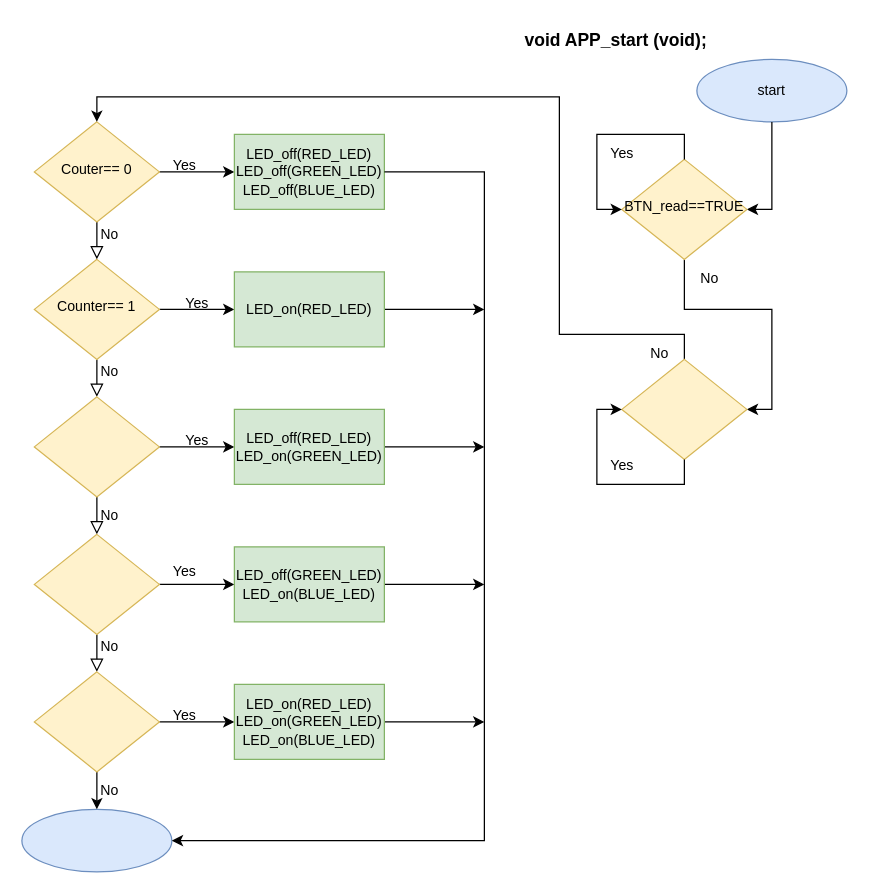
Some shapes in this 869 by 894 pixel diagram are drawn without their labels. Each missing label, with the centre of its shape:
"BTN_read==FALSE" goes at point (684, 408).
"Counter == 3" goes at point (96, 583).
"Counter == 4" goes at point (96, 721).
"Counter ==2" goes at point (96, 446).
"end" goes at point (96, 840).
